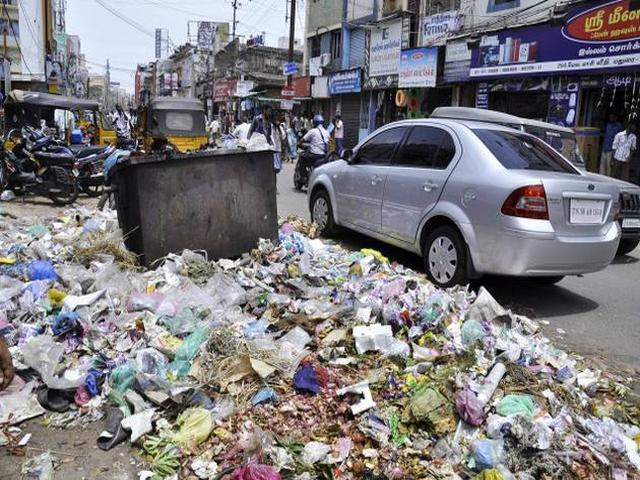garbage: (159, 268, 430, 473), (431, 349, 608, 475), (13, 231, 120, 400)
